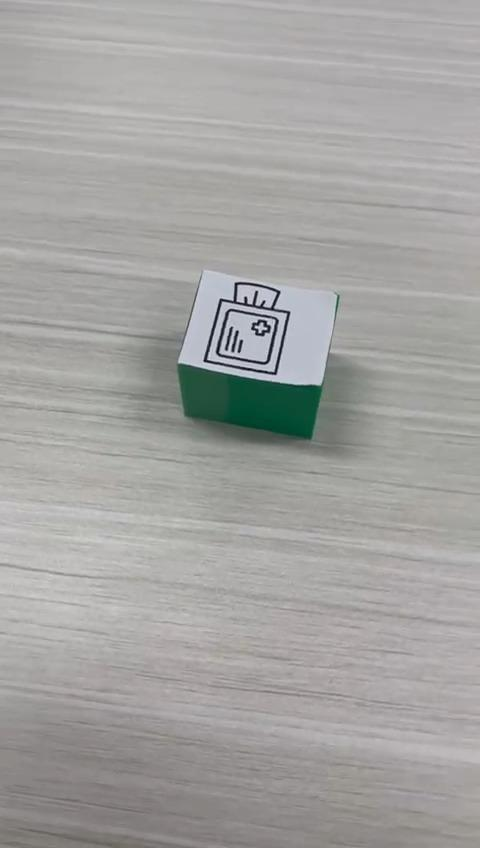Gauze: (175, 267, 340, 440)
